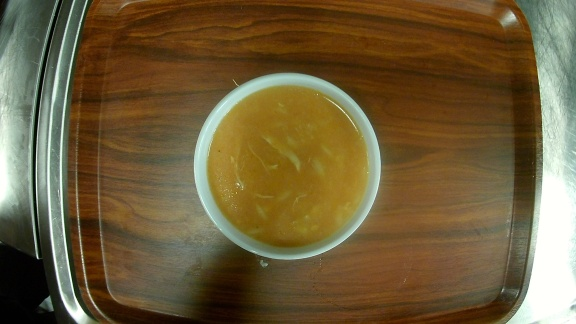tavukcorba: (192, 71, 384, 262)
